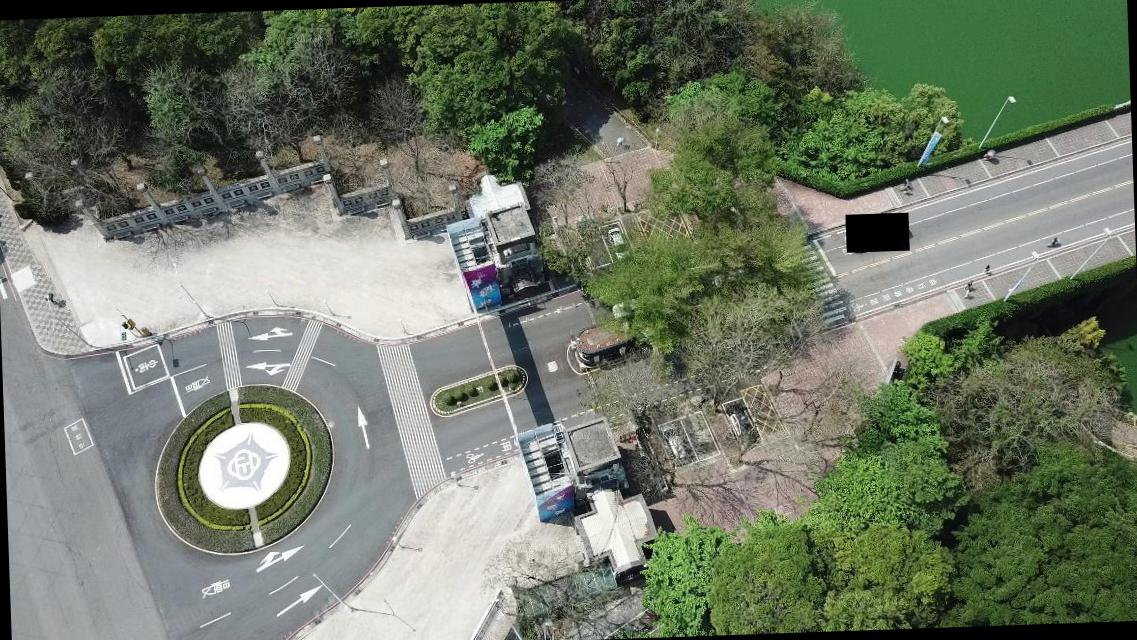vehicle: (724, 400, 758, 446), (659, 421, 689, 465), (605, 227, 627, 261), (610, 298, 641, 318)
